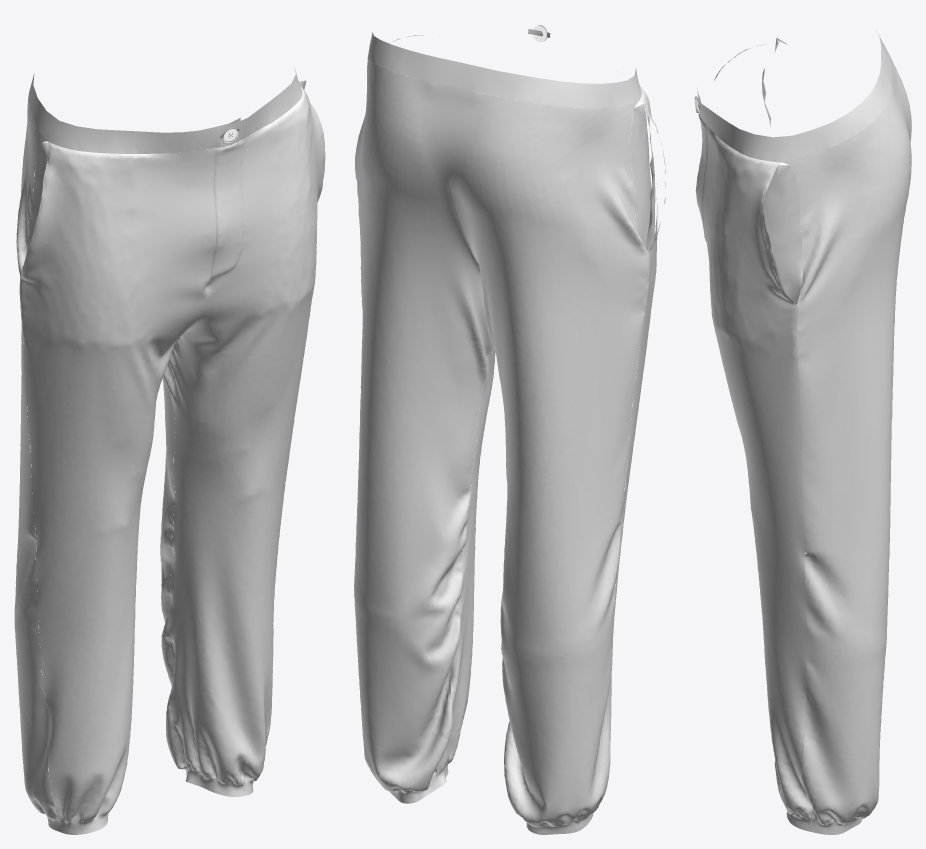
Rendered from standard-bottom-cut-cuffed.glb.
3 views of the same model, side by side, from view 1: azimuth 30°, elevation 25°; view 2: azimuth 150°, elevation 25°; view 3: azimuth 270°, elevation 25° (orthographic). The views are drawn at different scales.
Visible parts, largest first — view 1: Pattern_500159; view 2: Pattern_500159; view 3: Pattern_500159.
Boxes of the visible parts, x1,y1,x2,y2 form: Pattern_500159: (14, 67, 325, 834); Pattern_500159: (354, 25, 665, 834); Pattern_500159: (694, 34, 911, 834).
Size of the model in its own units: 0.4026 by 0.9923 by 0.2652.
7 materials, 1 textured.
